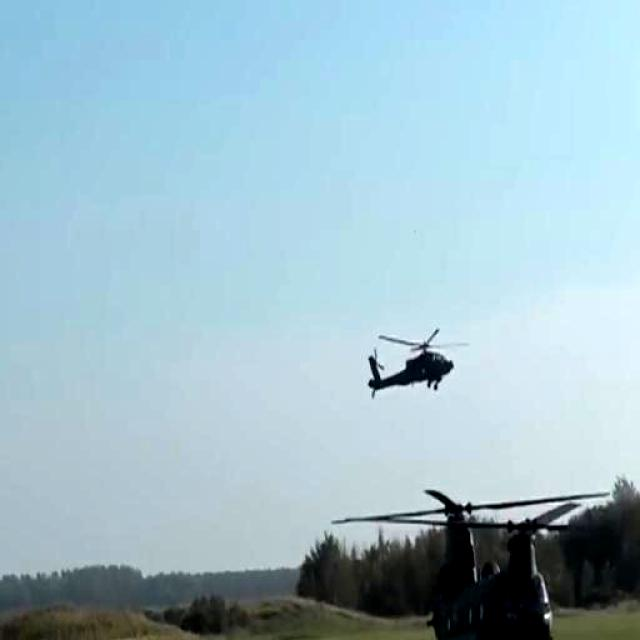drone: (404, 466, 575, 640), (360, 318, 461, 408)
